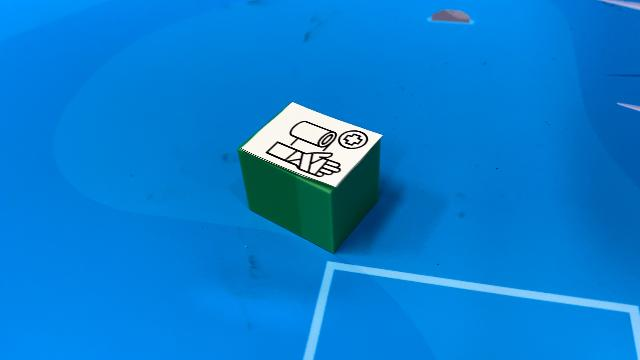bandage: (236, 99, 384, 253)
